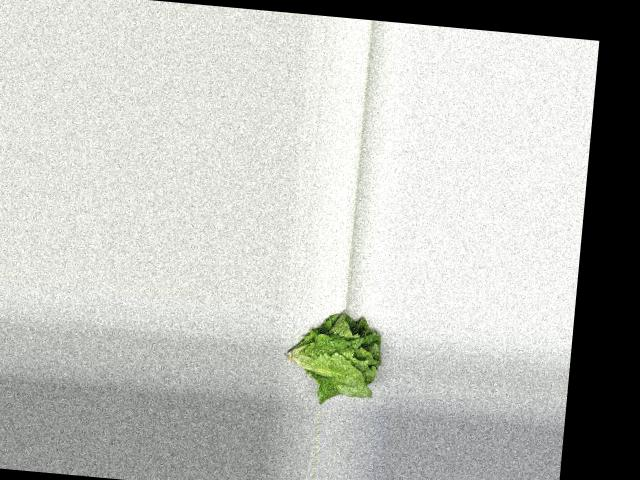lettuce: (279, 307, 386, 408)
